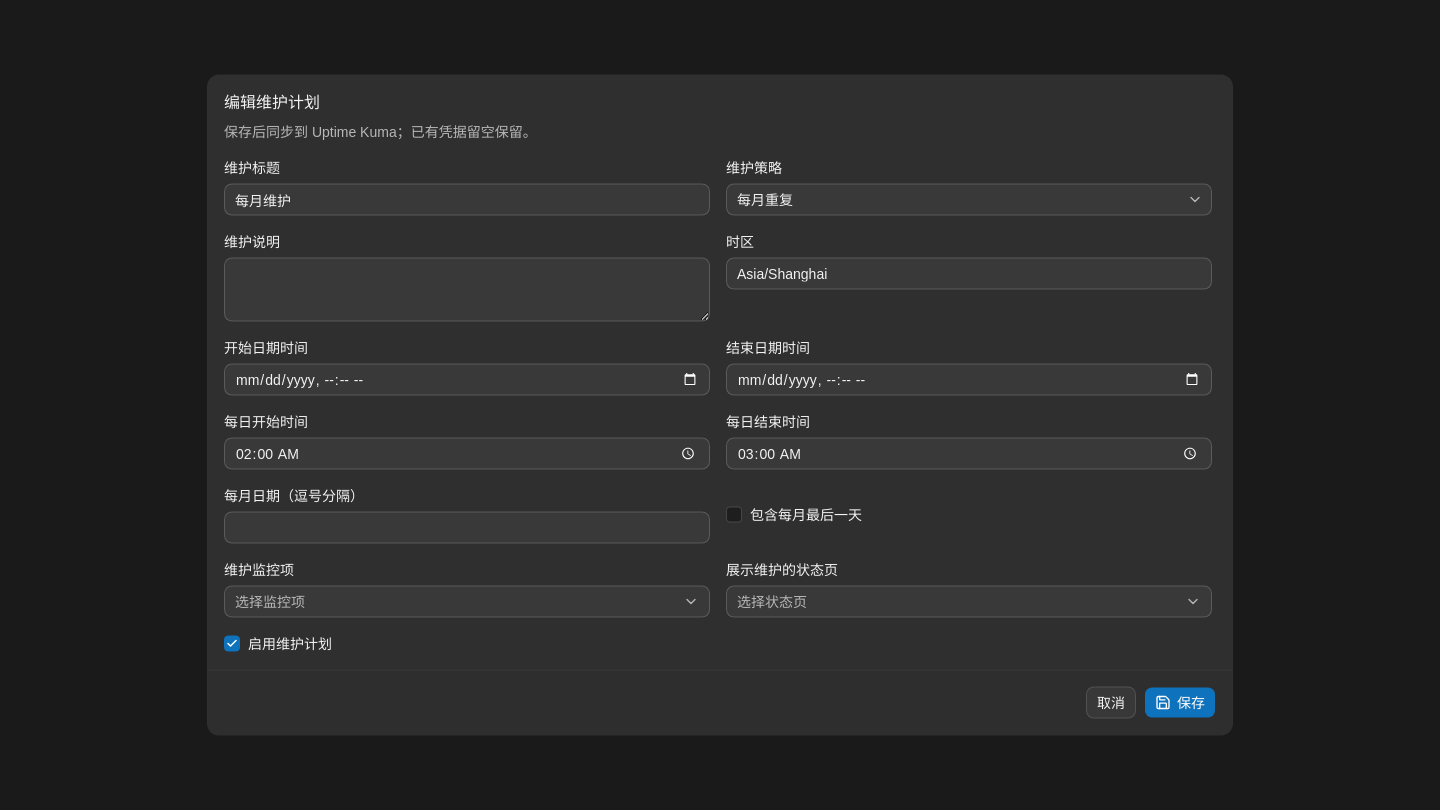
Scenario: 每月日期为 0 时显示字段错误并阻止提交
Type "0" into the field named "每月日期（逗号分隔）".
click(467, 528); type("0")  # box [224,512,710,544]
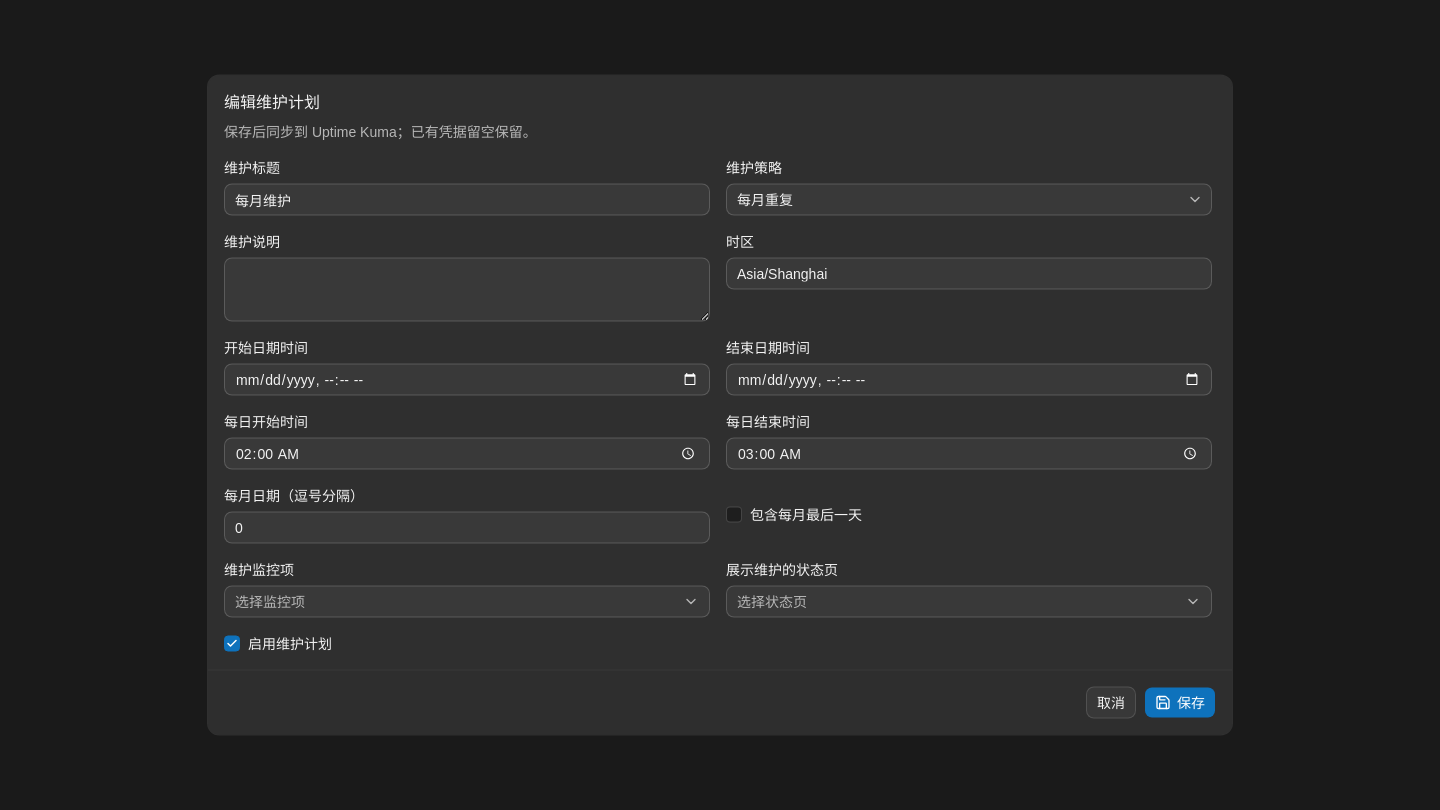
Click the button "保存".
click(1180, 702)  # box [1144,686,1216,718]
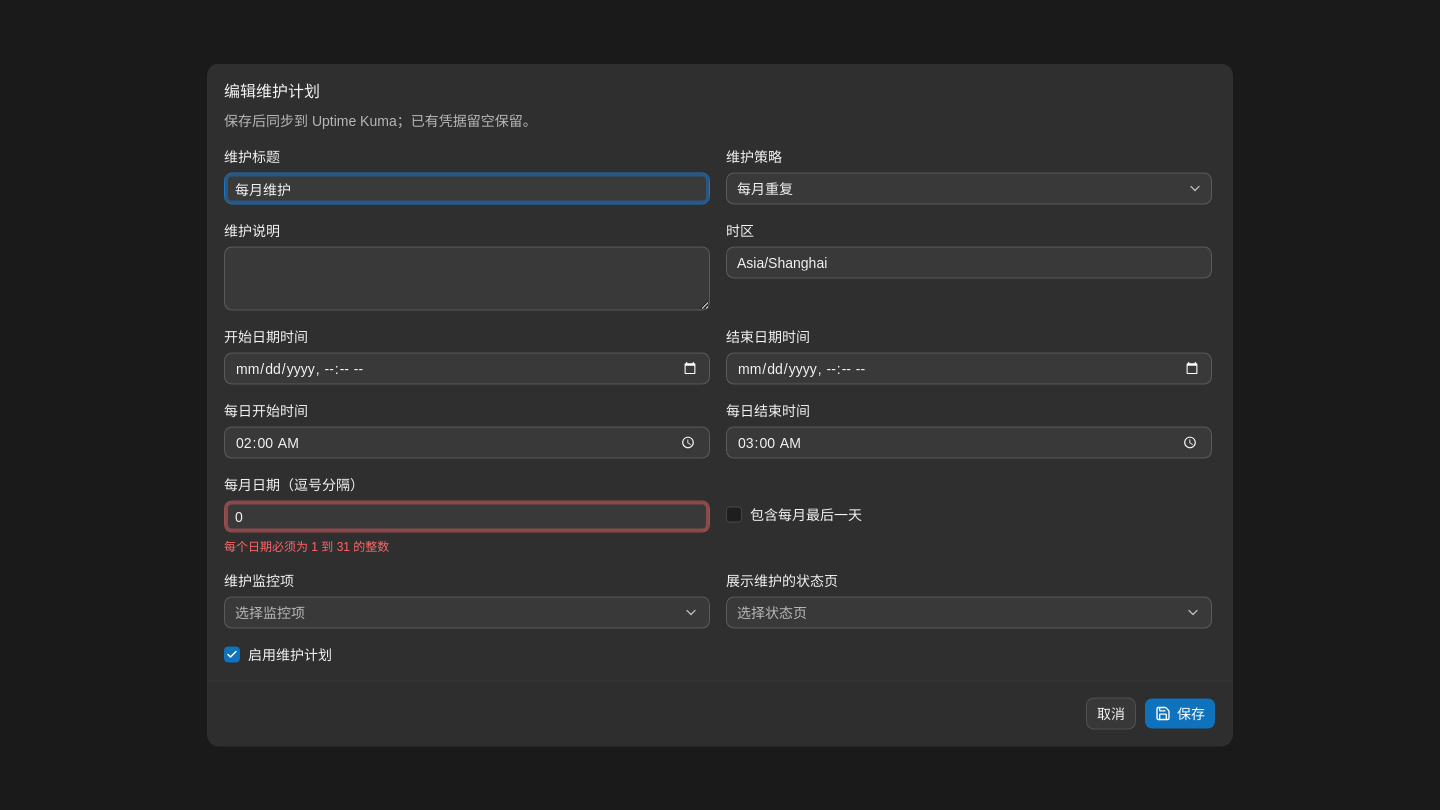
Now the message shows "日期", box [224,540,389,554]
